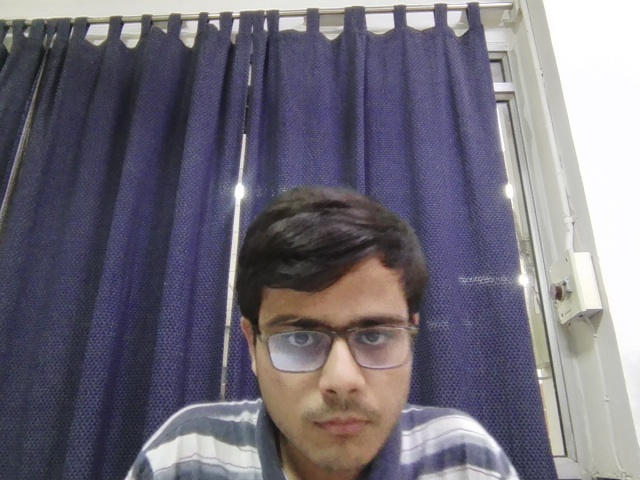face: (241, 186, 425, 474)
